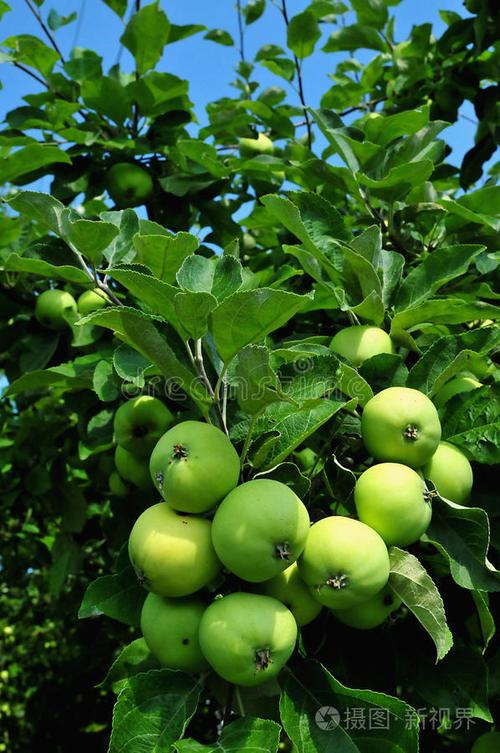unripe: (136, 415, 254, 521), (202, 478, 313, 582), (296, 513, 394, 620), (117, 499, 219, 599), (192, 594, 298, 688), (346, 459, 440, 549), (353, 378, 444, 463), (133, 595, 229, 667), (400, 442, 482, 503), (317, 323, 403, 380)
